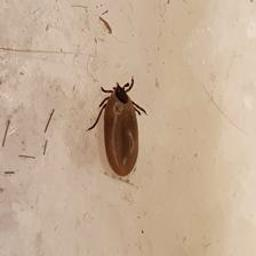Ixodes scapularis: (88, 77, 148, 178)
